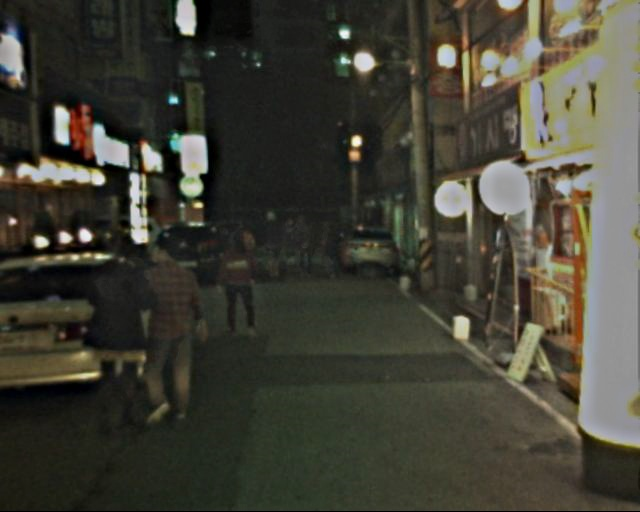person: (137, 228, 209, 433), (80, 230, 146, 439), (217, 222, 263, 340), (257, 203, 288, 282), (230, 216, 263, 289), (291, 211, 315, 281), (316, 216, 340, 280)
